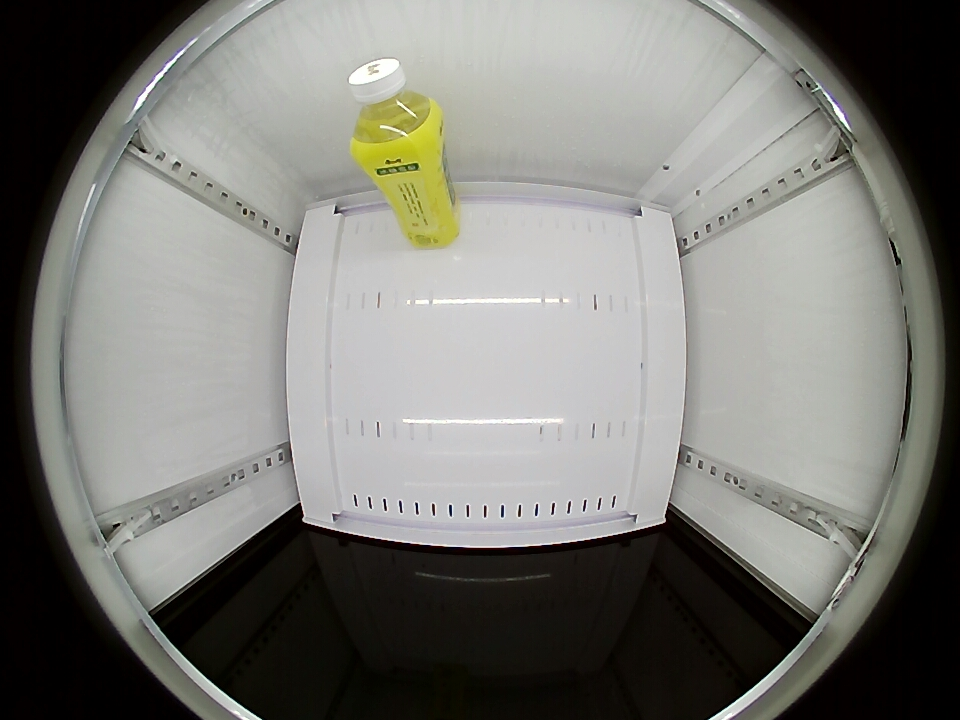bingtangxueli: (348, 57, 444, 167)
